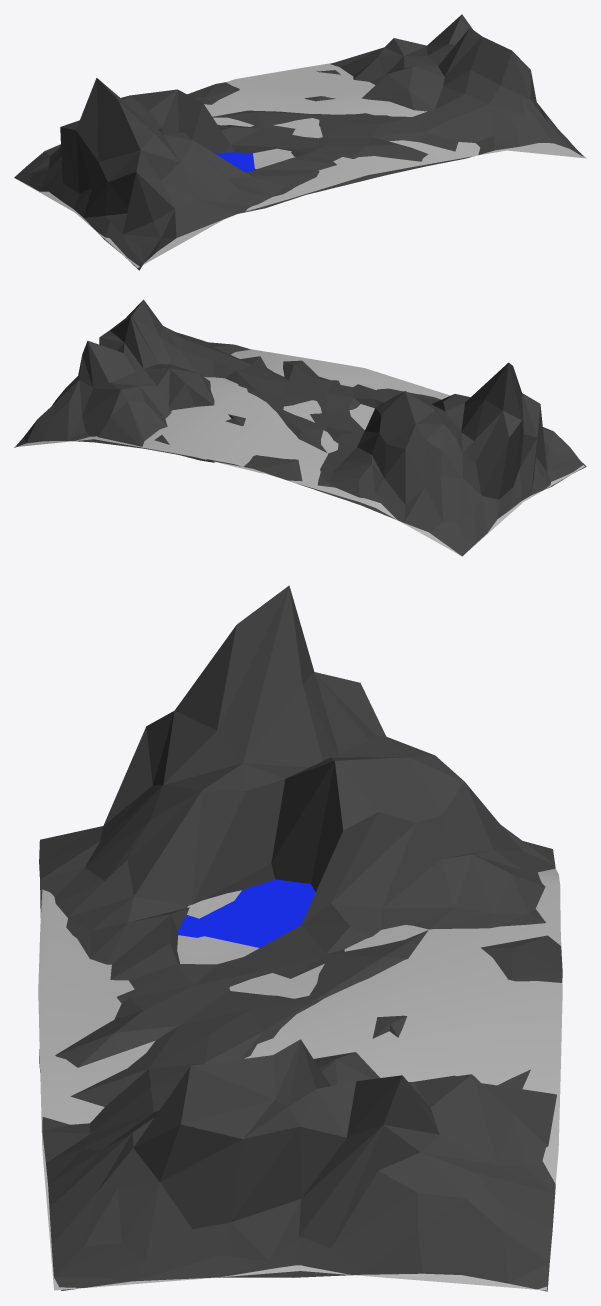
Rendered from Berg_01.FBX.
The picture shows the model from 3 angles, top to bottom: view 1: azimuth 30°, elevation 25°; view 2: azimuth 150°, elevation 25°; view 3: azimuth 270°, elevation 25°; orthographic projection. The views are drawn at different scales.
Visible parts, largest first — view 1: Sphere093; view 2: Sphere093; view 3: Sphere093.
Part boxes in pixels (box(x1,y1,x2,y2)): Sphere093: box(14, 14, 586, 270); Sphere093: box(14, 299, 586, 556); Sphere093: box(38, 585, 562, 1291).
Bounding box in the file's own units: 45.36 × 14.63 × 22.95.
